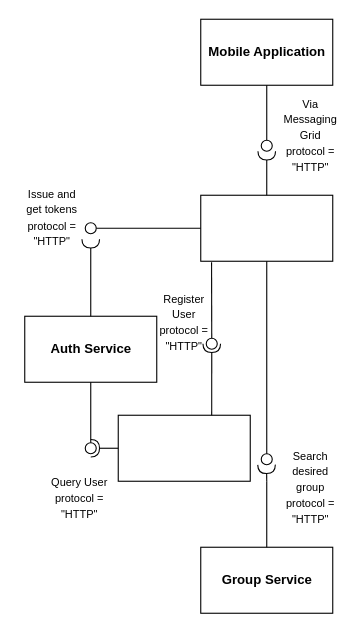
Image size: 362x633. Some labels were removed from this diagram. Each missing label, with the box of its shape:
<<infrastructure>> Api Gateway: (200, 194, 333, 261)
User Service: (117, 414, 250, 481)
